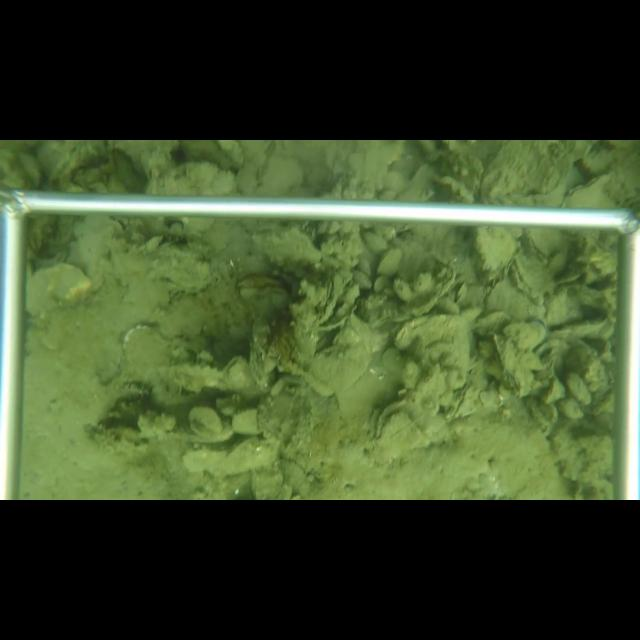Oyster-Closed: (301, 315, 372, 399), (385, 263, 463, 323), (491, 330, 545, 399), (28, 261, 94, 315), (142, 160, 241, 195), (118, 322, 172, 385), (209, 436, 283, 476), (561, 173, 615, 207), (313, 271, 345, 328), (249, 319, 273, 392)
Oyster-Open: (511, 253, 556, 307), (446, 384, 474, 424), (526, 228, 553, 265)
